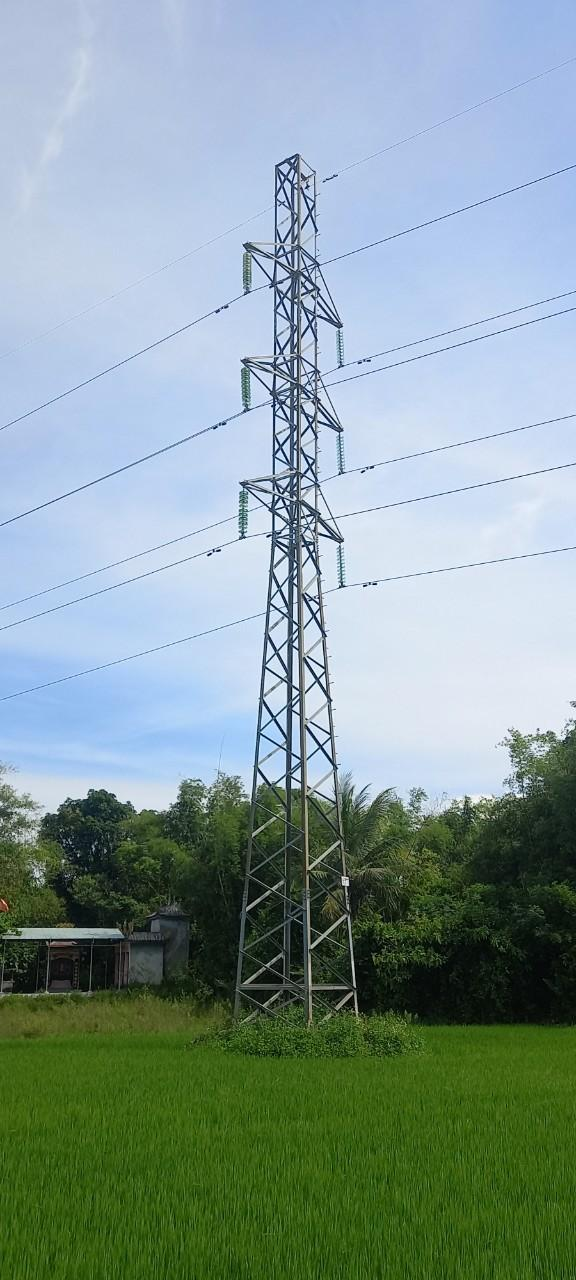power_tower: (232, 142, 360, 1042)
